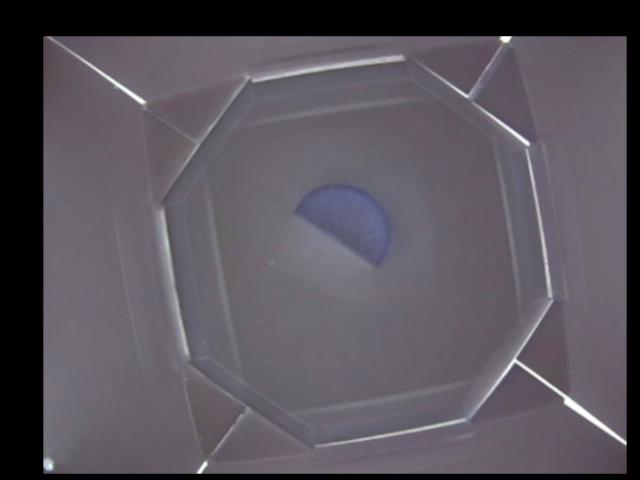Mooli: (291, 184, 394, 268)
